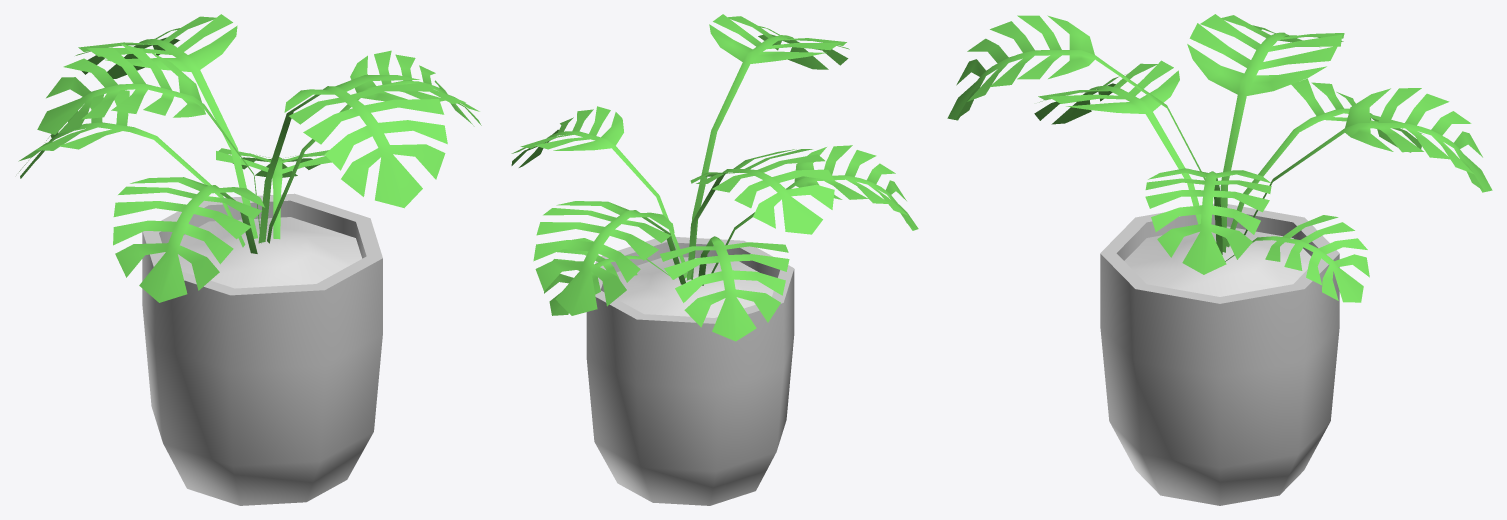
File: Plant Vase 3.fbx
3 renders of one model, left to right at view 1: azimuth 30°, elevation 25°; view 2: azimuth 150°, elevation 25°; view 3: azimuth 270°, elevation 25°, orthographic. The views are drawn at different scales.
Parts seen in each view (by area): view 1: VasePlant2; view 2: VasePlant2; view 3: VasePlant2.
Boxes of the visible parts, bbox=[...] form: VasePlant2: bbox=[18, 14, 481, 505]; VasePlant2: bbox=[511, 14, 918, 505]; VasePlant2: bbox=[947, 14, 1492, 505].
Bounding box in the file's own units: 0.4283 × 0.3666 × 0.3521.
